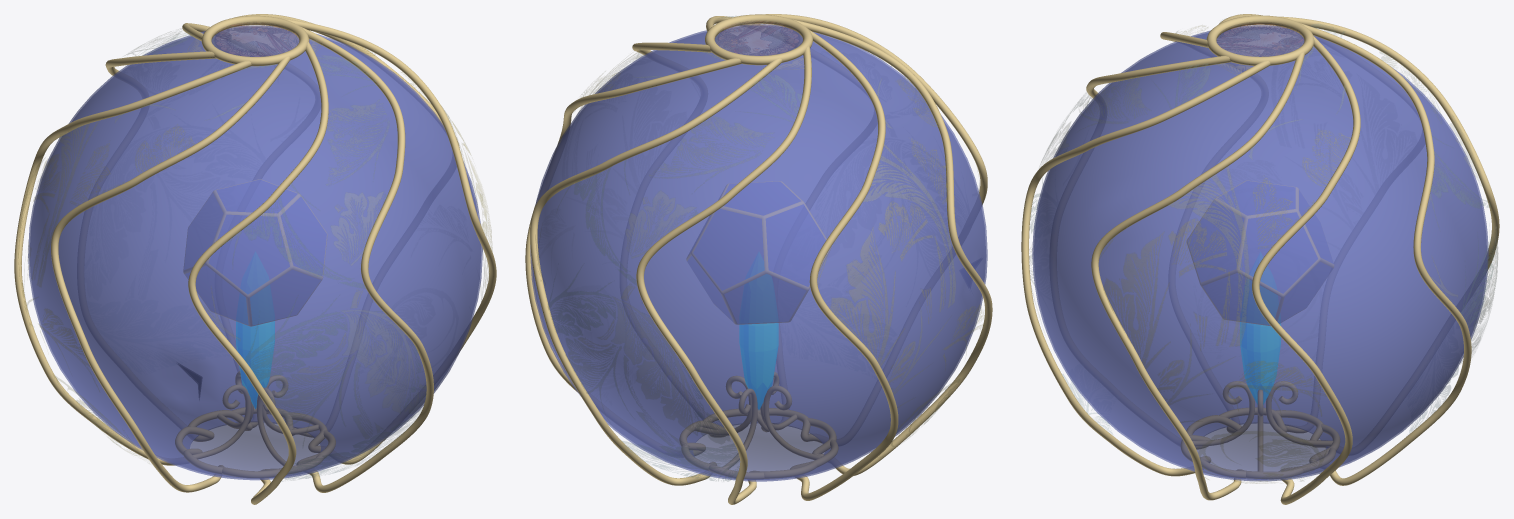
File: star_wars_-_arkanian_lamp.glb
3 views of the same model, side by side, from view 1: azimuth 30°, elevation 25°; view 2: azimuth 150°, elevation 25°; view 3: azimuth 270°, elevation 25° (orthographic).
Parts seen in each view (by area): view 1: Sphere, Baleines, Motifs, Trapezohedre_verre_Verre_0, Crystal, Trapezohedre_tranches_Metal_0; view 2: Sphere, Baleines, Motifs, Trapezohedre_verre_Verre_0, Crystal, Trapezohedre_tranches_Metal_0; view 3: Sphere, Baleines, Motifs, Trapezohedre_verre_Verre_0, Crystal, Trapezohedre_tranches_Metal_0.
Part boxes in pixels (bbox=[...]): Sphere: bbox=[28, 25, 482, 480]; Baleines: bbox=[14, 14, 496, 504]; Motifs: bbox=[18, 22, 492, 481]; Trapezohedre_verre_Verre_0: bbox=[184, 180, 326, 324]; Crystal: bbox=[236, 321, 274, 408]; Trapezohedre_tranches_Metal_0: bbox=[183, 179, 327, 326]; Sphere: bbox=[530, 24, 987, 481]; Baleines: bbox=[525, 14, 992, 504]; Motifs: bbox=[535, 16, 983, 481]; Trapezohedre_verre_Verre_0: bbox=[687, 182, 825, 323]; Crystal: bbox=[739, 323, 778, 409]; Trapezohedre_tranches_Metal_0: bbox=[686, 181, 831, 324]; Sphere: bbox=[1032, 25, 1488, 481]; Baleines: bbox=[1021, 14, 1499, 504]; Motifs: bbox=[1029, 22, 1497, 483]; Trapezohedre_verre_Verre_0: bbox=[1188, 181, 1333, 324]; Crystal: bbox=[1240, 322, 1280, 404]; Trapezohedre_tranches_Metal_0: bbox=[1187, 180, 1333, 325].
Size of the model in its own units: 1.11 by 1.09 by 1.11.
Materials: 4 (1 with a texture image).
